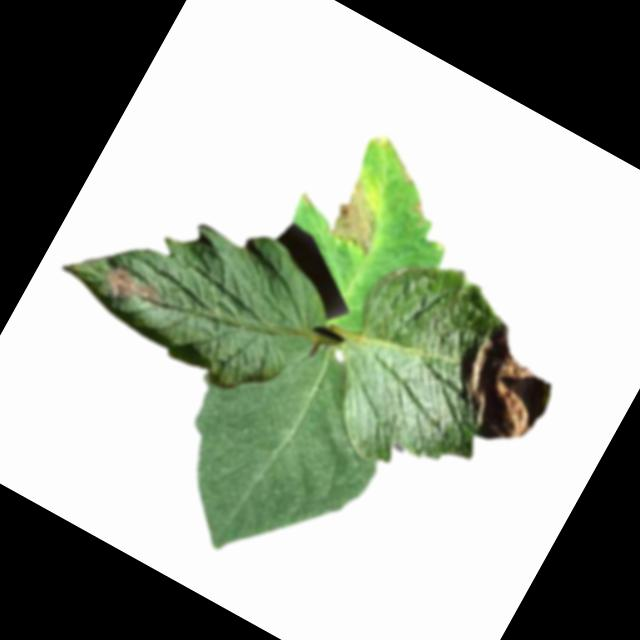Late_blight: (429, 312, 572, 458), (317, 172, 399, 257), (97, 258, 175, 325)
healthy: (133, 301, 420, 601)
